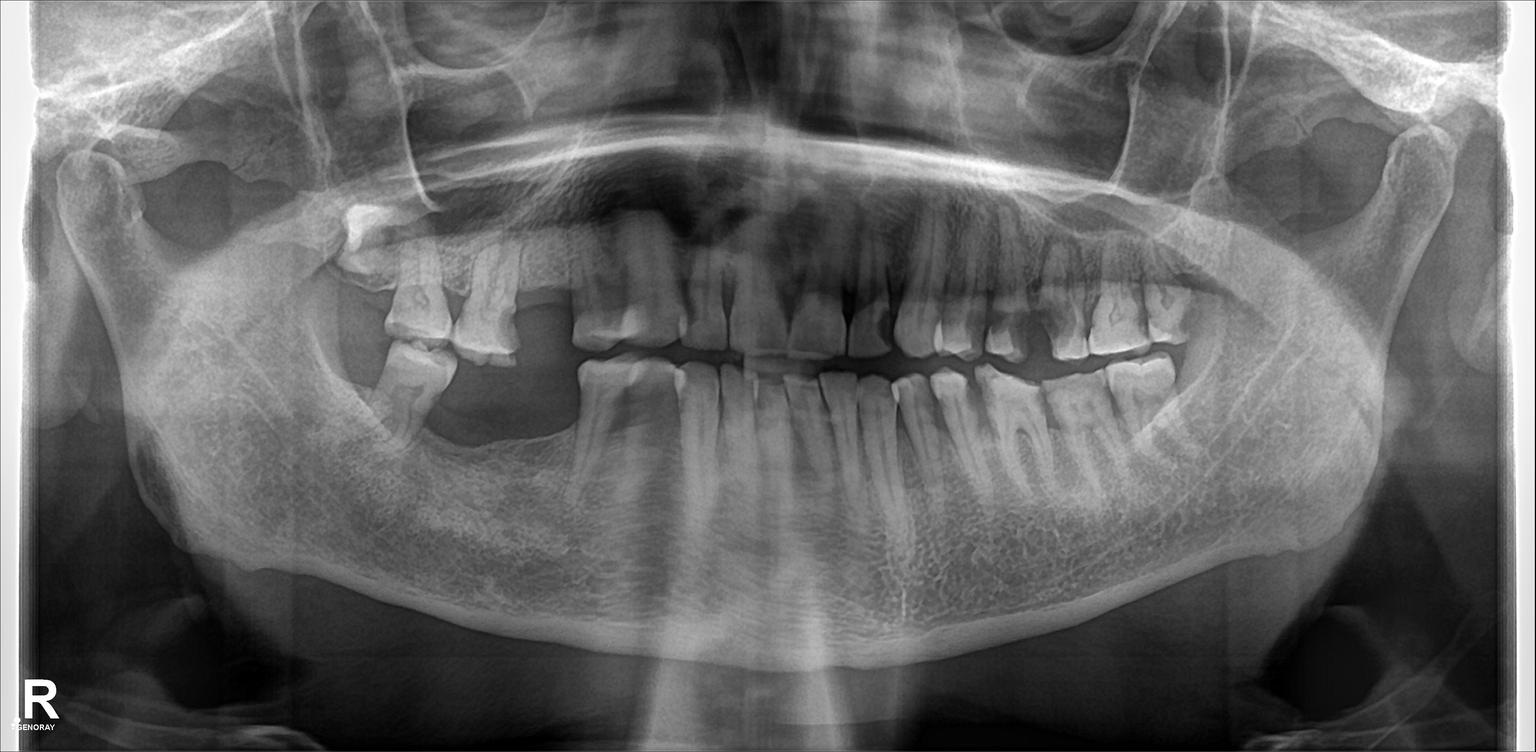Dental Caries: (1030, 296, 1077, 340), (872, 302, 903, 344), (1000, 307, 1028, 347)
Missing Tooth: (512, 372, 575, 472), (516, 246, 571, 347), (451, 370, 507, 468), (311, 331, 378, 405)
Retained Root: (328, 218, 395, 313)
